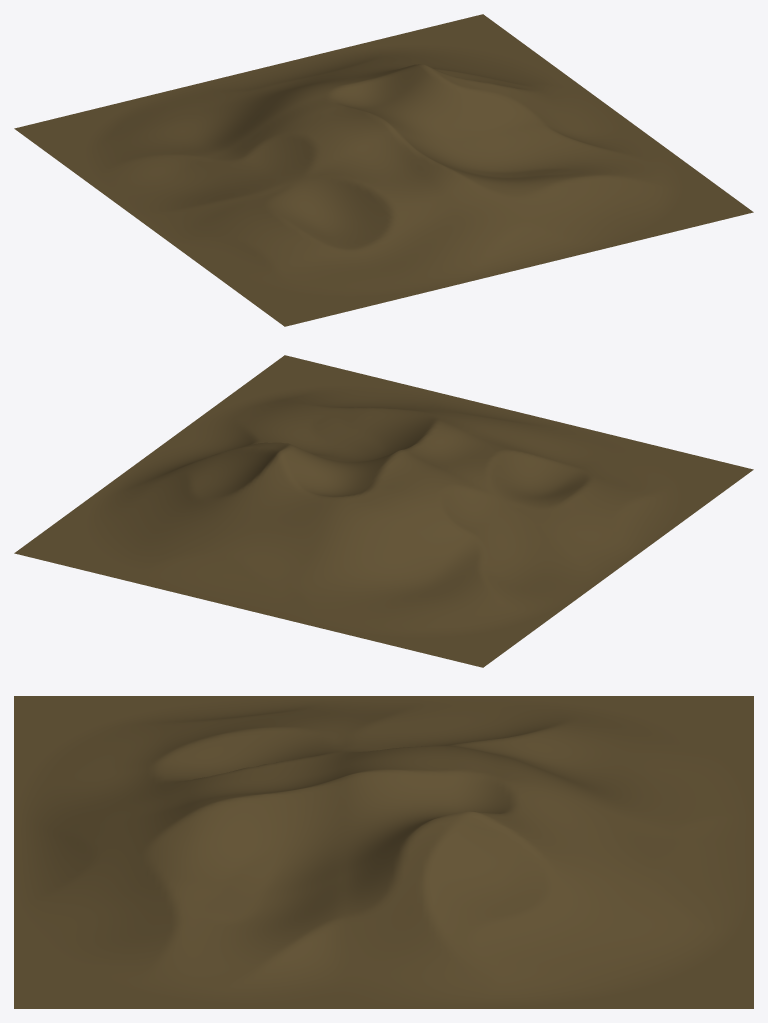
File: sand.fbx
3 renders of one model, top to bottom at view 1: azimuth 30°, elevation 25°; view 2: azimuth 150°, elevation 25°; view 3: azimuth 270°, elevation 25°, orthographic. The views are drawn at different scales.
Parts seen in each view (by area): view 1: Landscape.001; view 2: Landscape.001; view 3: Landscape.001.
Part boxes in pixels (x1,y1,x2,y2): Landscape.001: (14,14,753,326); Landscape.001: (14,355,753,667); Landscape.001: (14,696,753,1008).
Size of the model in its own units: 200 by 26.52 by 200.
